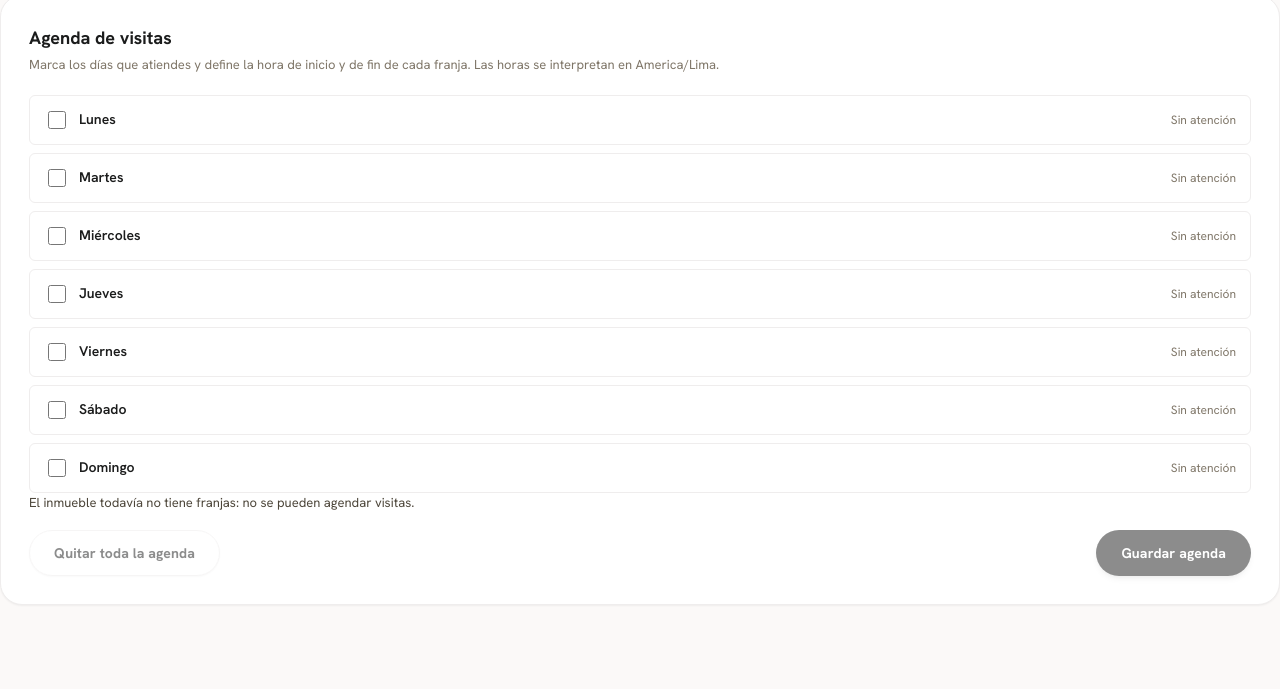
Scenario: ScheduleManager › Validación antes de enviar › detecta dos franjas solapadas del mismo día
Click the switch labelled "Lunes" at (57, 120), box [48, 110, 66, 128]
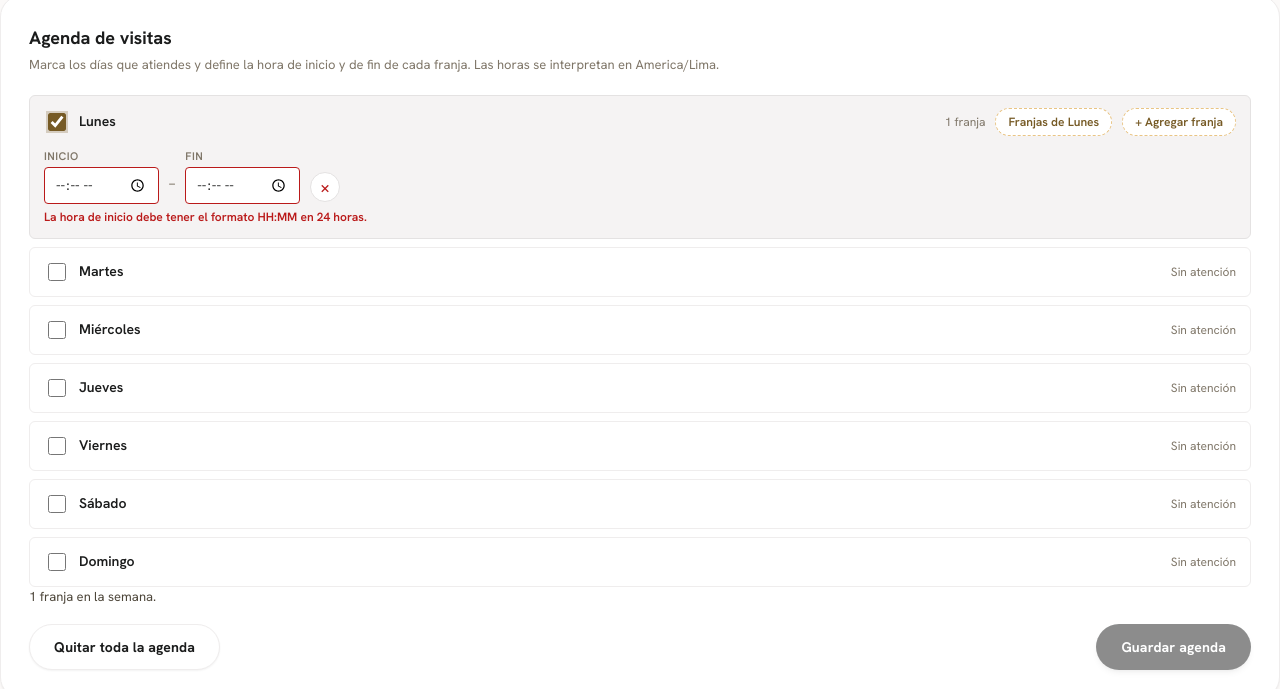
Type "09:00" into the time field named "Franja 1 de Lunes: hora de inicio" at (101, 185), box [44, 167, 159, 204]
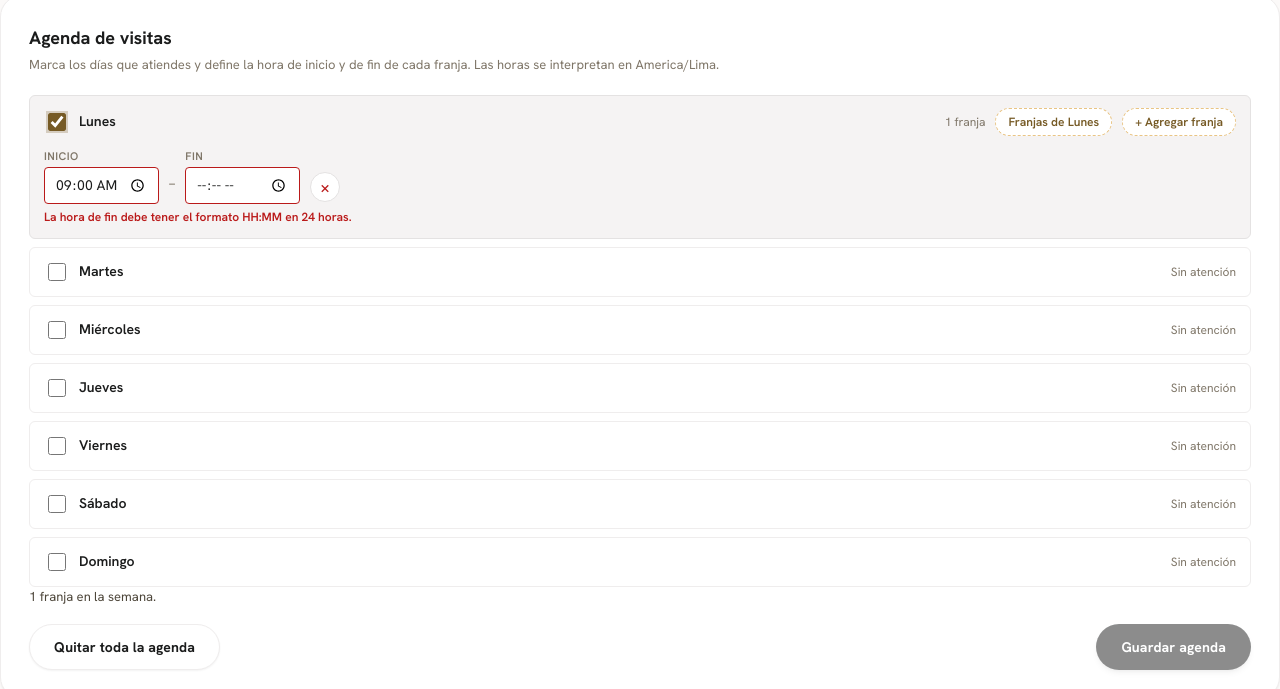
Type "12:00" into the time field named "Franja 1 de Lunes: hora de fin" at (243, 185), box [185, 167, 300, 204]
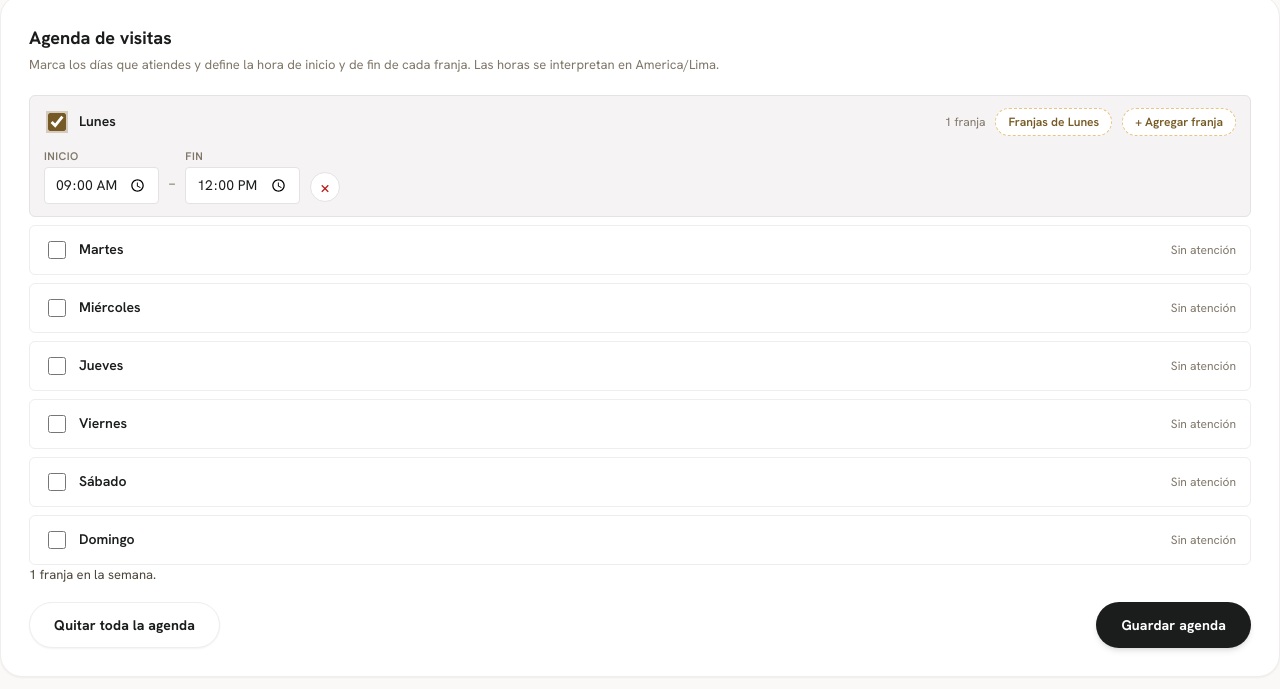
Click the button "+ Agregar franja" at (1179, 122), box [1122, 108, 1236, 136]
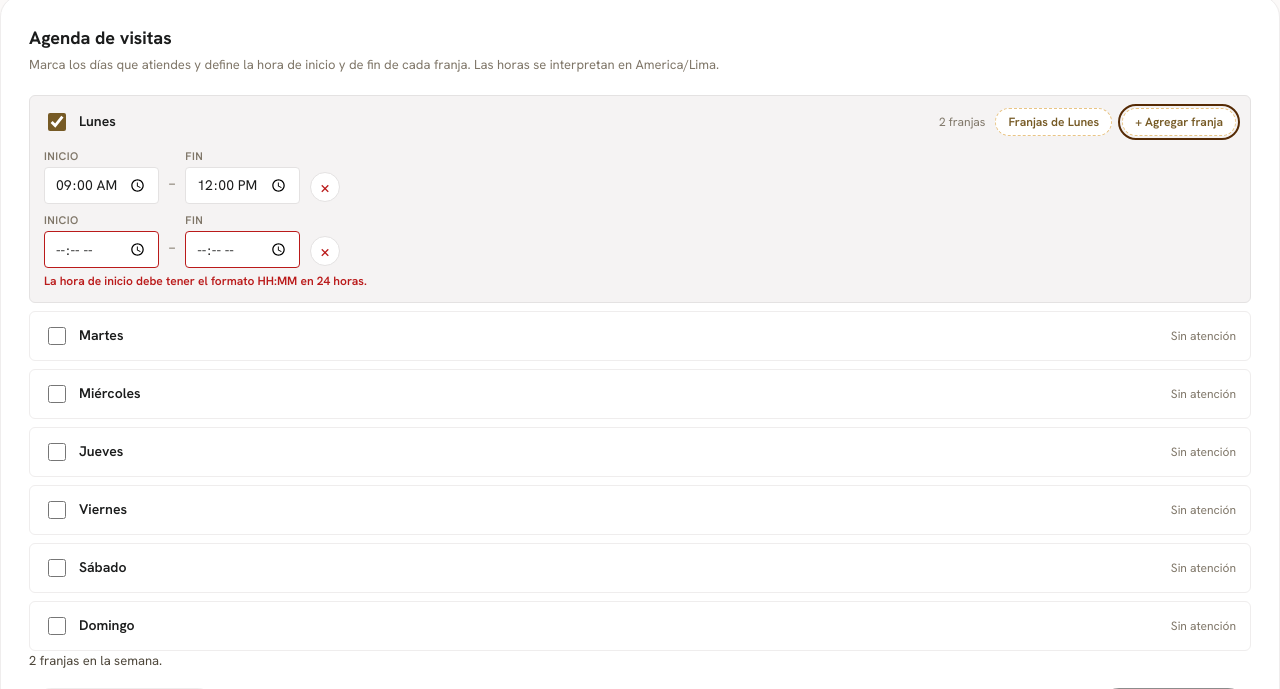
Type "11:00" into the time field named "Franja 2 de Lunes: hora de inicio" at (101, 250), box [44, 231, 159, 268]
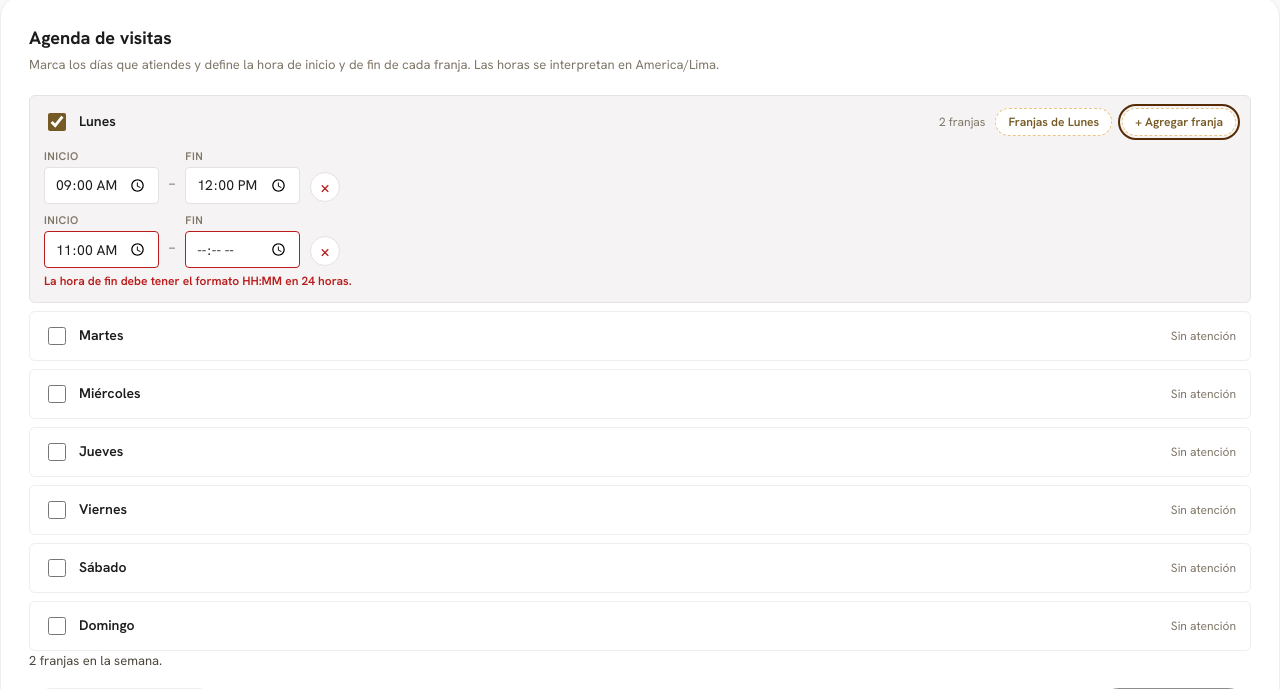
Type "13:00" into the time field named "Franja 2 de Lunes: hora de fin" at (243, 250), box [185, 231, 300, 268]
(page scrolled)
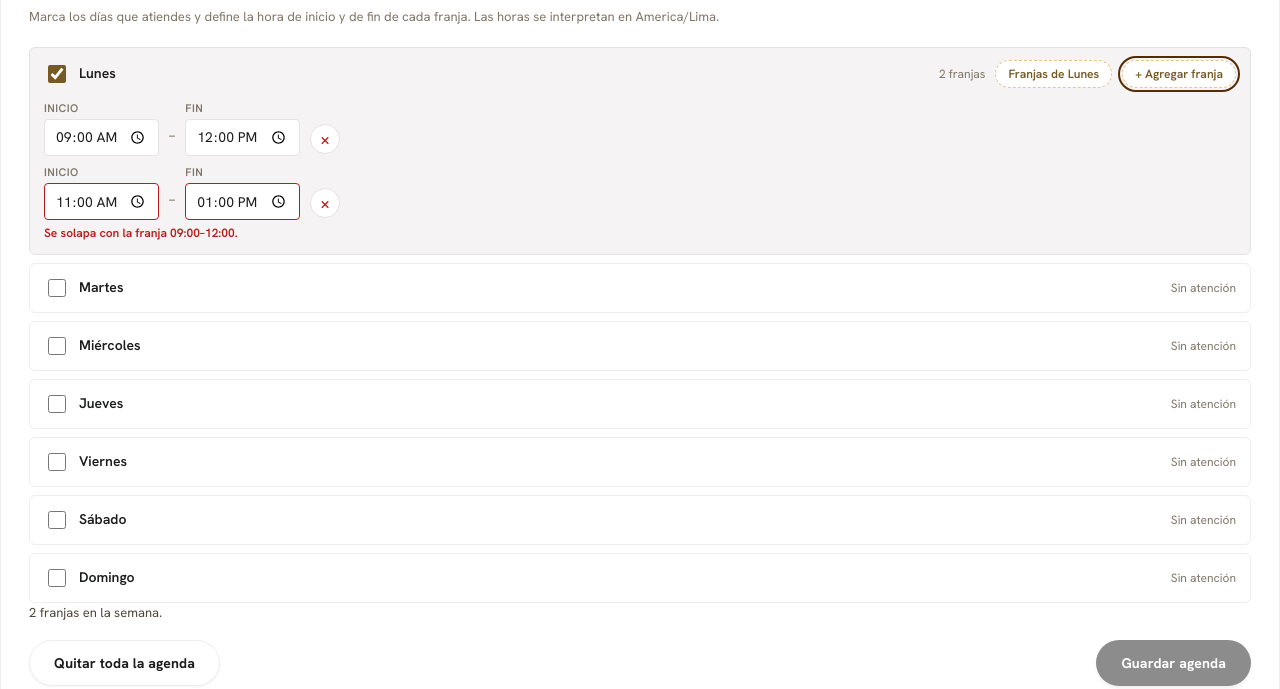
Expected: the button "Guardar agenda" is disabled, [1096, 640, 1251, 686]
Expected: the text "Se solapa con la franja 09:00–12:00." is shown, [44, 225, 238, 241]
